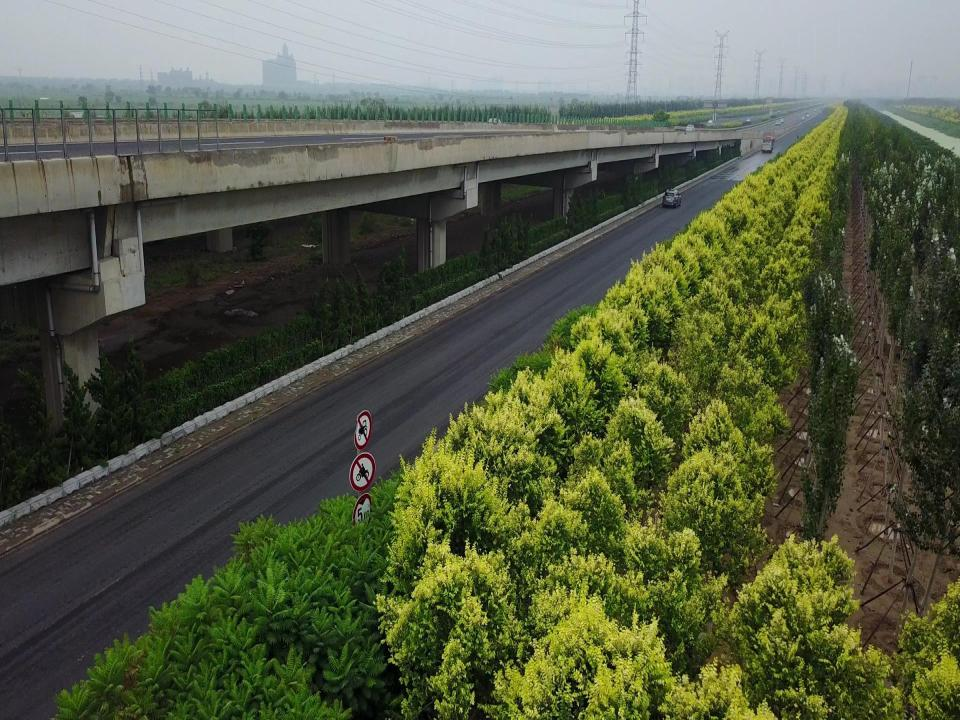bus: (761, 136, 775, 154)
car: (661, 189, 682, 208), (685, 124, 696, 132), (775, 120, 781, 126), (746, 118, 750, 123), (780, 118, 784, 123), (708, 120, 712, 124), (806, 114, 810, 118), (803, 110, 807, 114), (801, 117, 805, 120), (777, 110, 780, 113)
